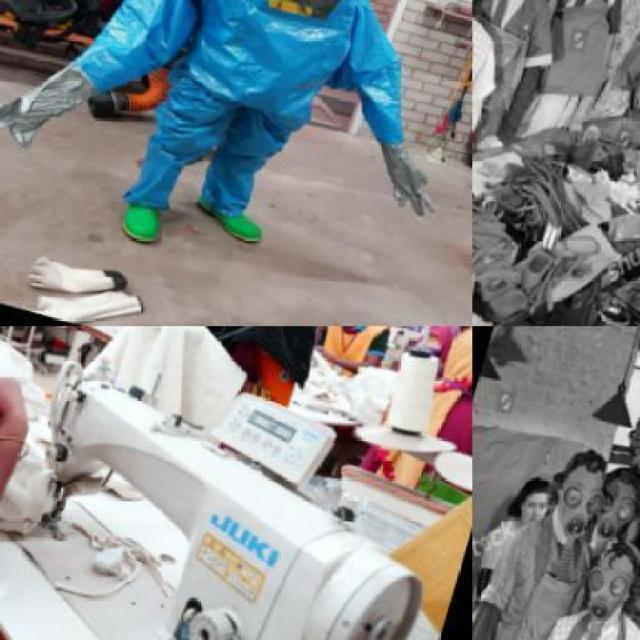vest: (89, 0, 406, 240)
